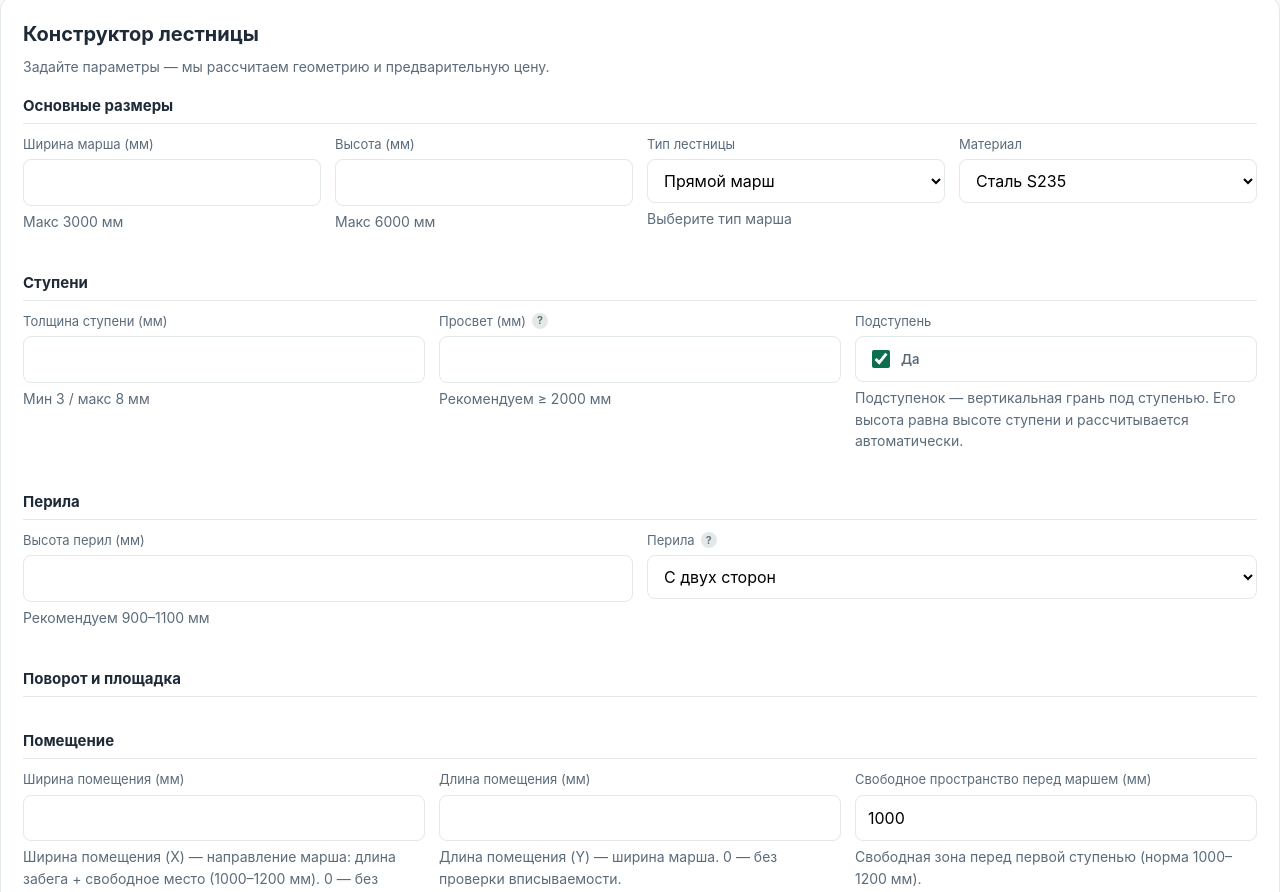
Test: Constructor › спираль: направление закрутки и авто-перила от него
This screenshot has width=1280, height=892.
Select "Спиральная (винтовая)" in the dropdown labelled "Тип лестницы" at (796, 181), box [647,159,945,203]
(page scrolled)
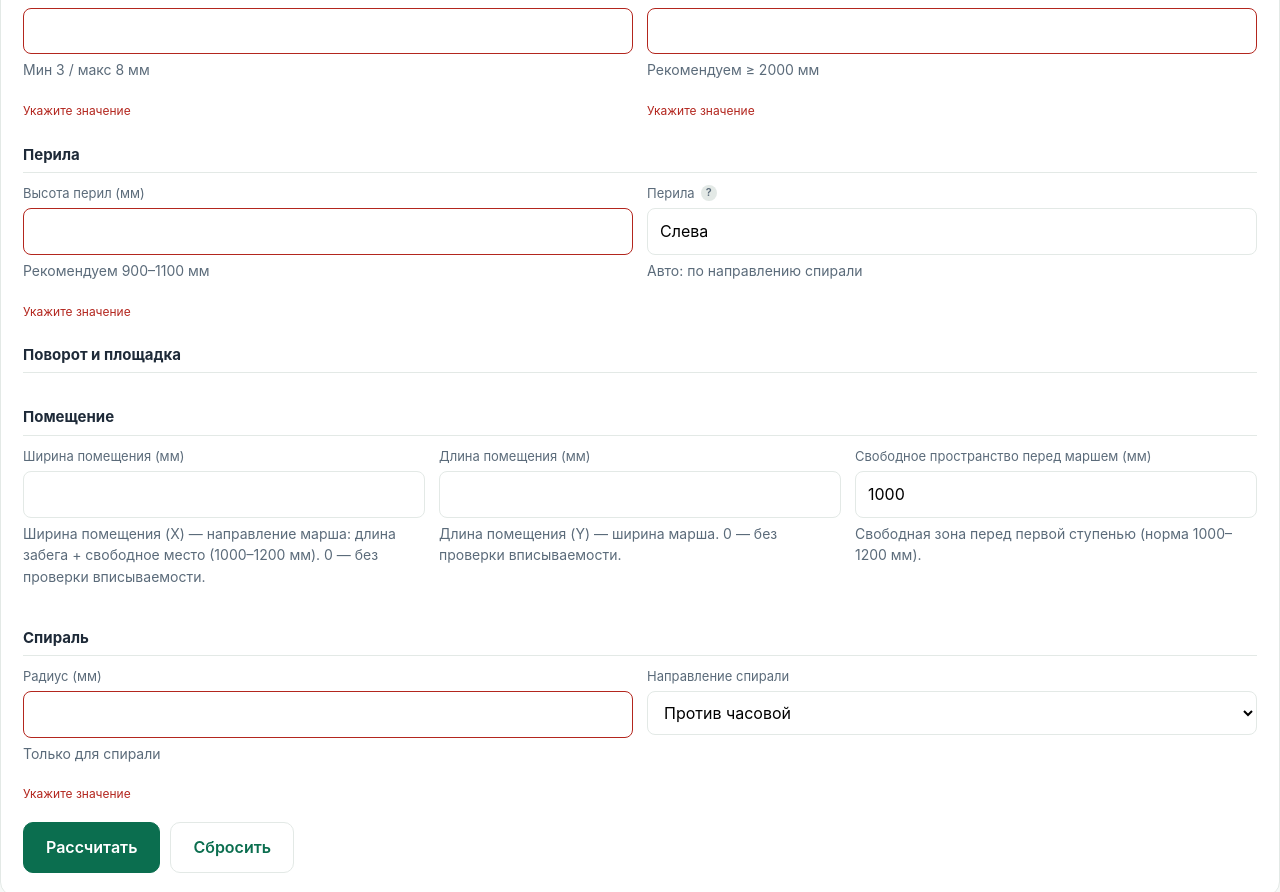
Expected: the dropdown labelled "Направление спирали" is shown
Expected: the field labelled "Перила" holds "Слева", [647,208,1257,255]
Select "По часовой" in the dropdown labelled "Направление спирали" at (952, 713), box [647,691,1257,735]
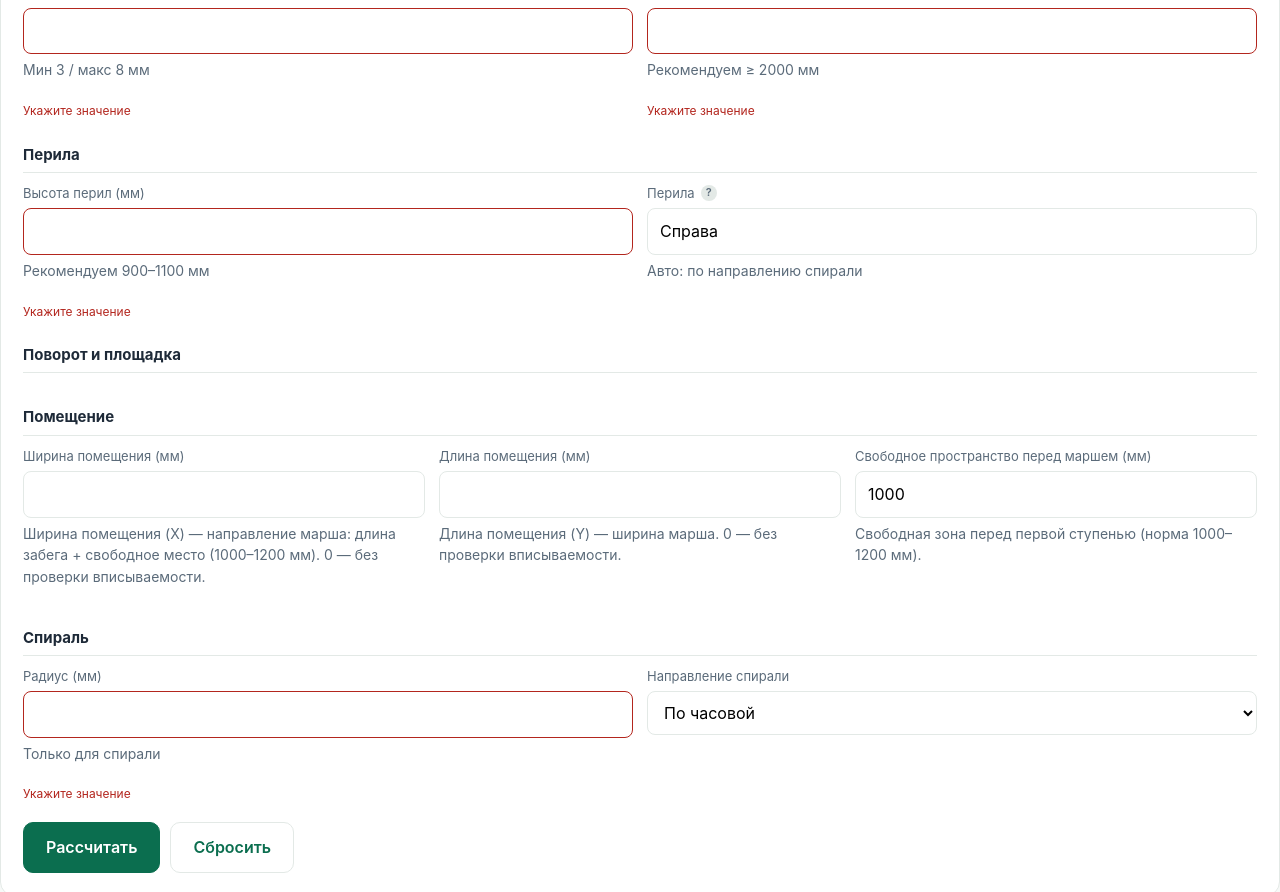
Expected: the field labelled "Перила" holds "Справа", [647,208,1257,255]
